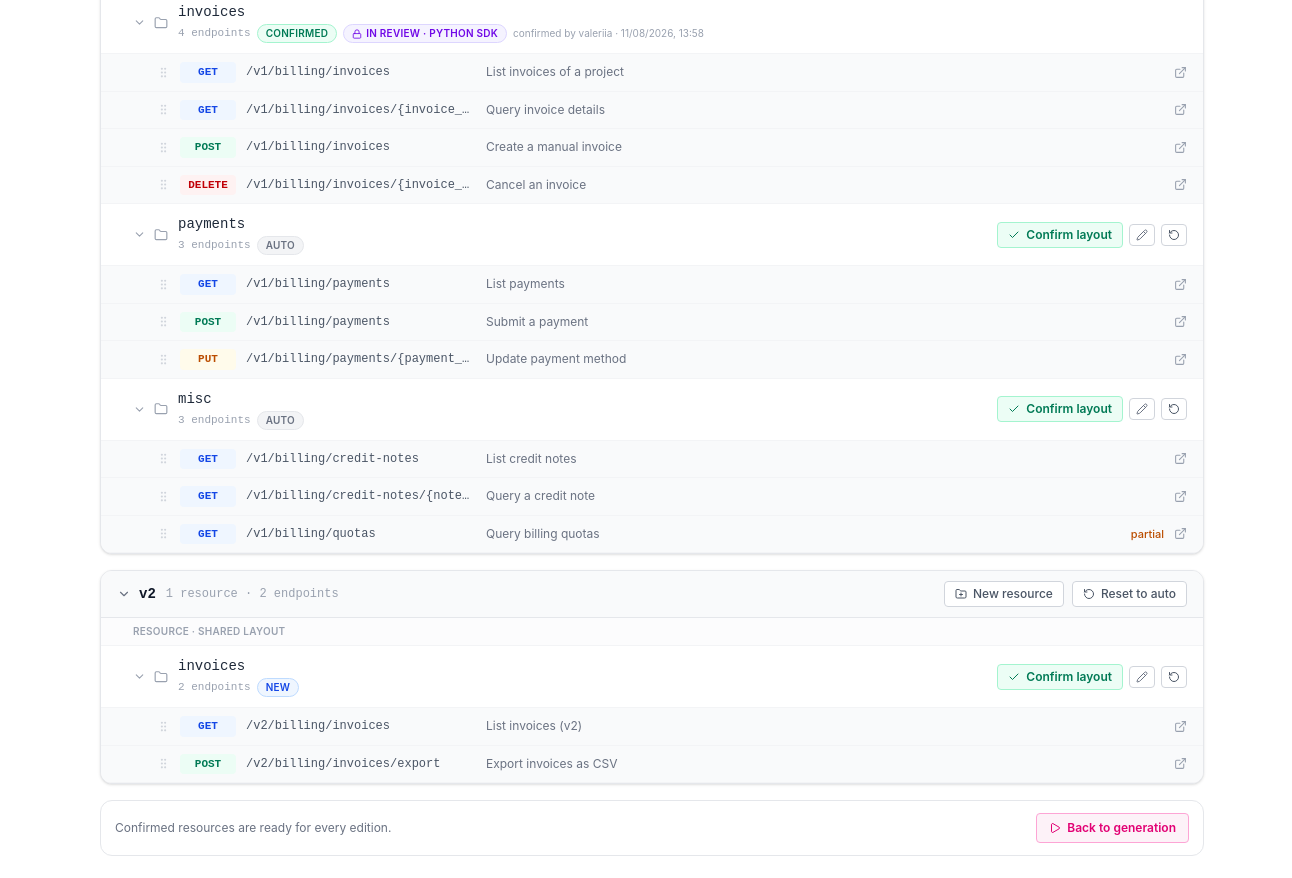
Test: the billing-api layout on the in-memory mock › takes a name another version already has, and drops a rename on Escape or Cancel
The image size is (1292, 878).
(page scrolled)
Click the 3rd button named "Rename resource". click: (1142, 676)
box: [1129,666,1155,688]
(page scrolled)
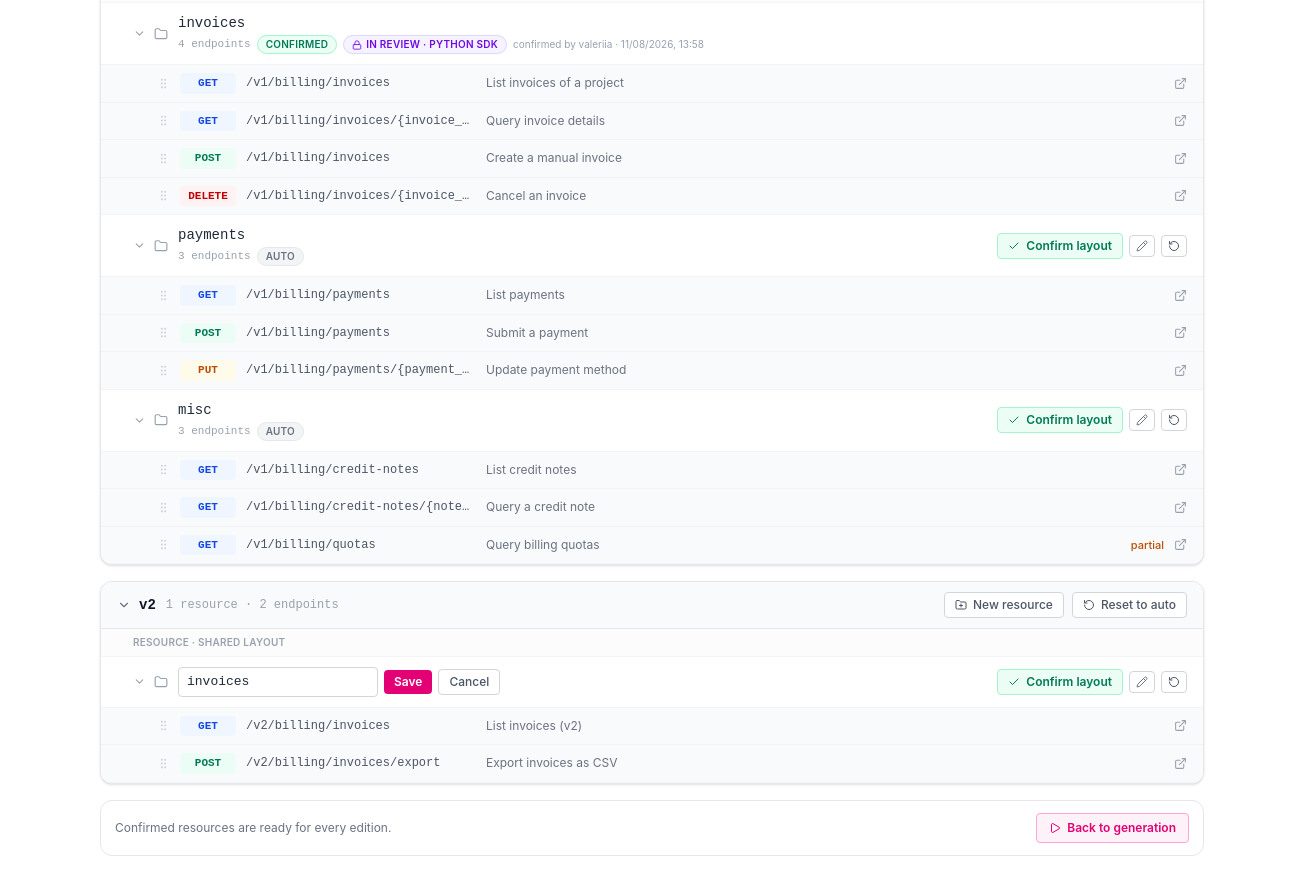
Replace the text in the field with "payments". click: (278, 682)
box: [178,667,378,696]
Press Enter in the field, box [178,667,378,696]
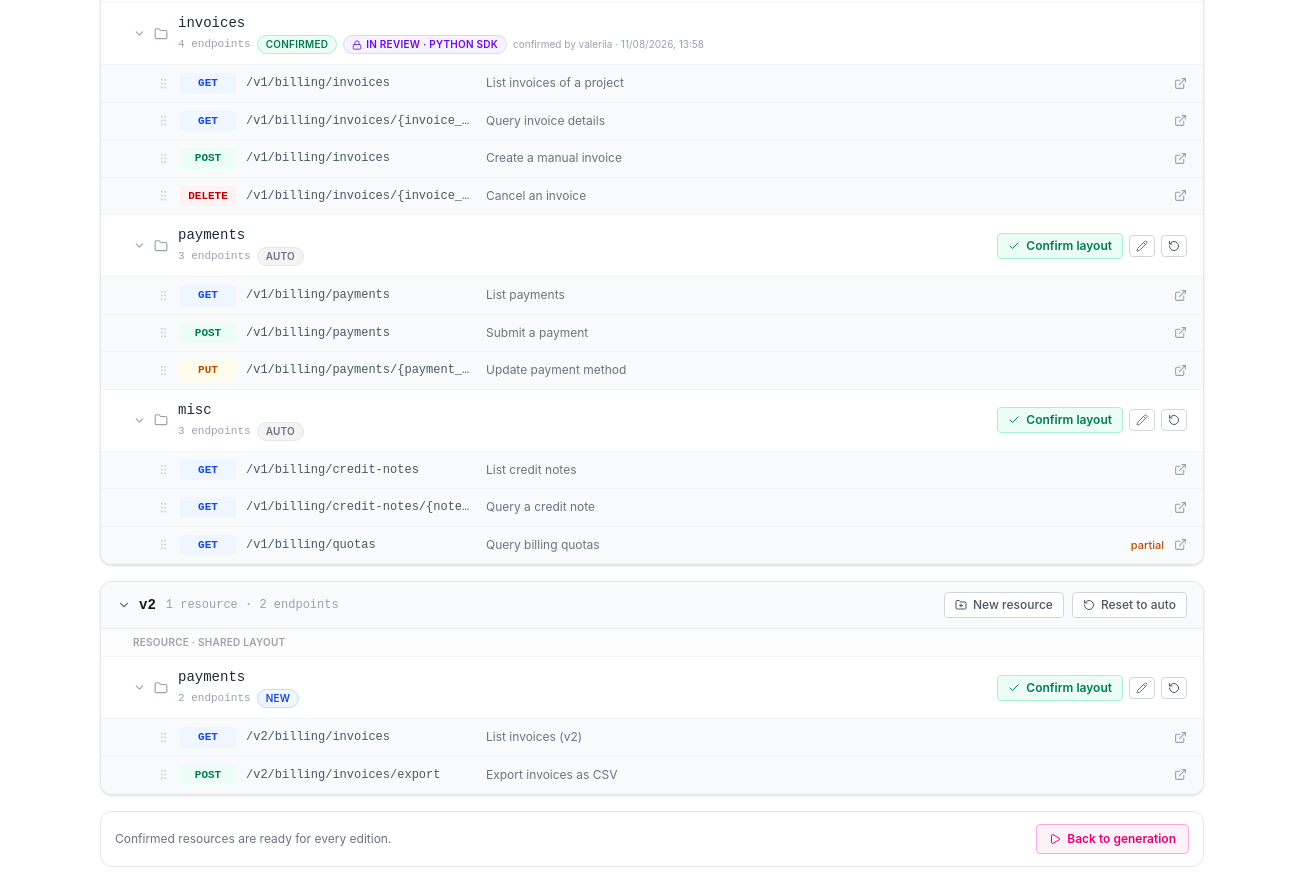
Now the element "payments" is shown, box [101,657,1203,794]
Click the button named "Rename resource" in the row of "misc". click: (1142, 420)
box: [1129,409,1155,431]
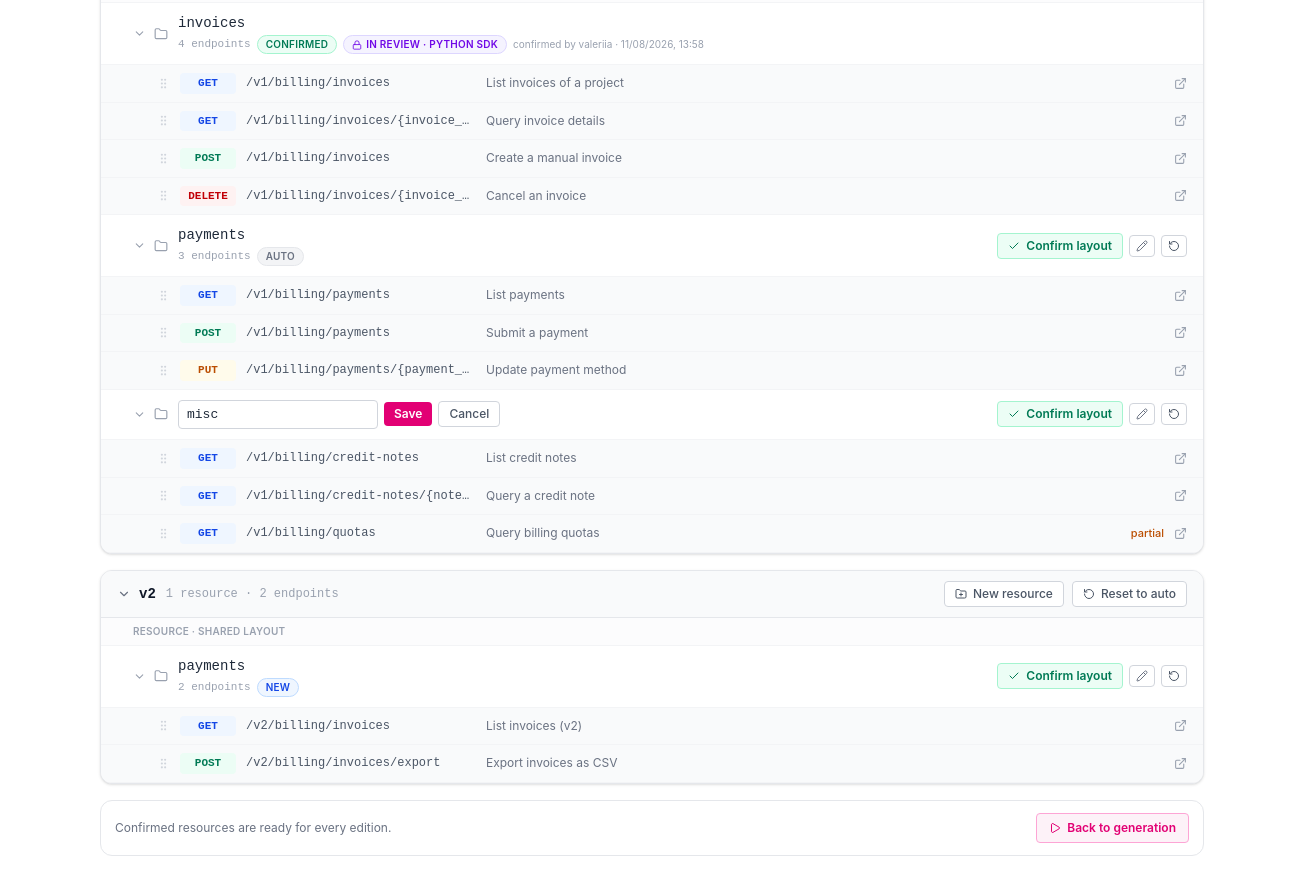
Replace the text in the field with "notes". click: (278, 414)
box: [178,400,378,429]
Press Escape in the field, box [178,400,378,429]
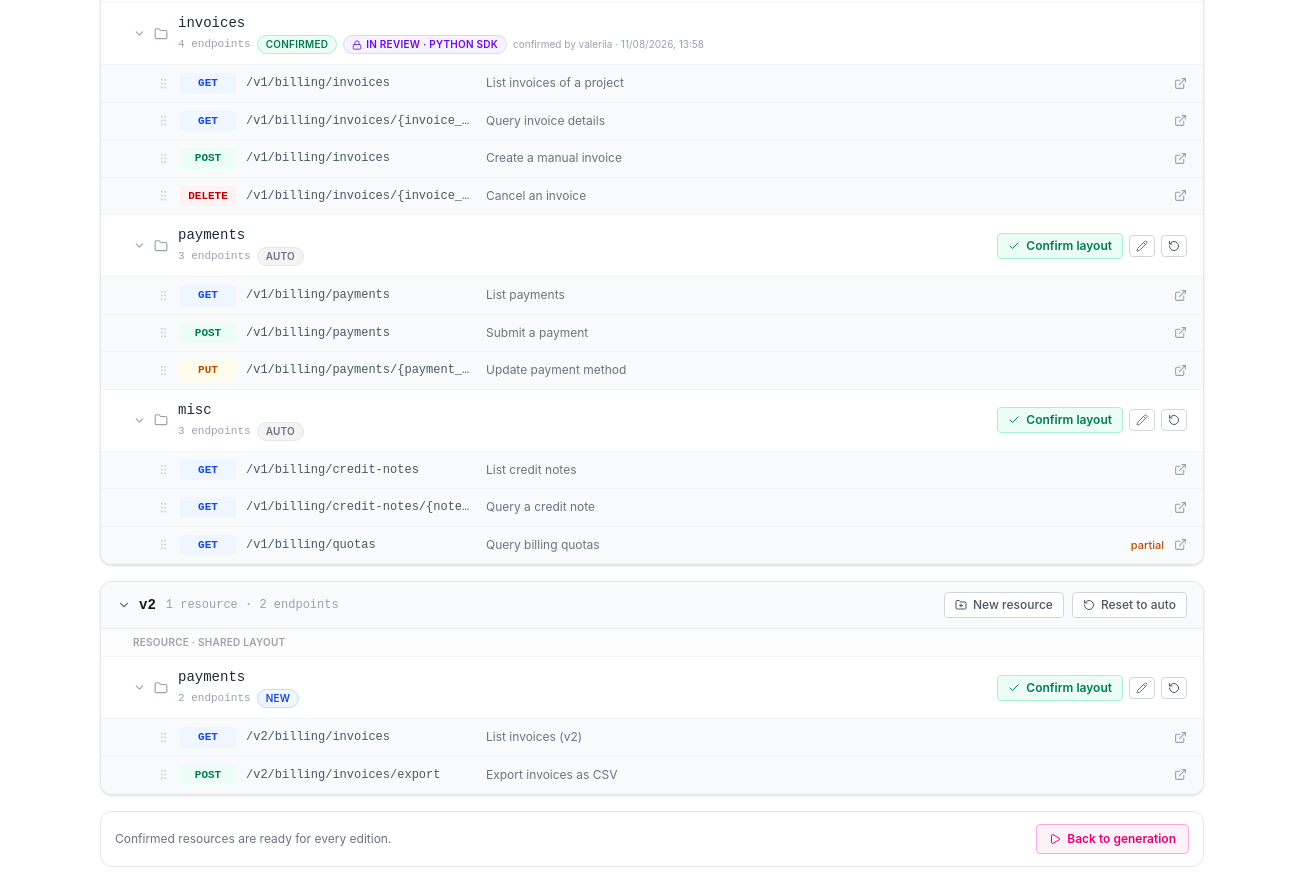
Now the field is gone
Click the button named "Rename resource" in the row of "misc". click: (1142, 420)
box: [1129,409,1155,431]
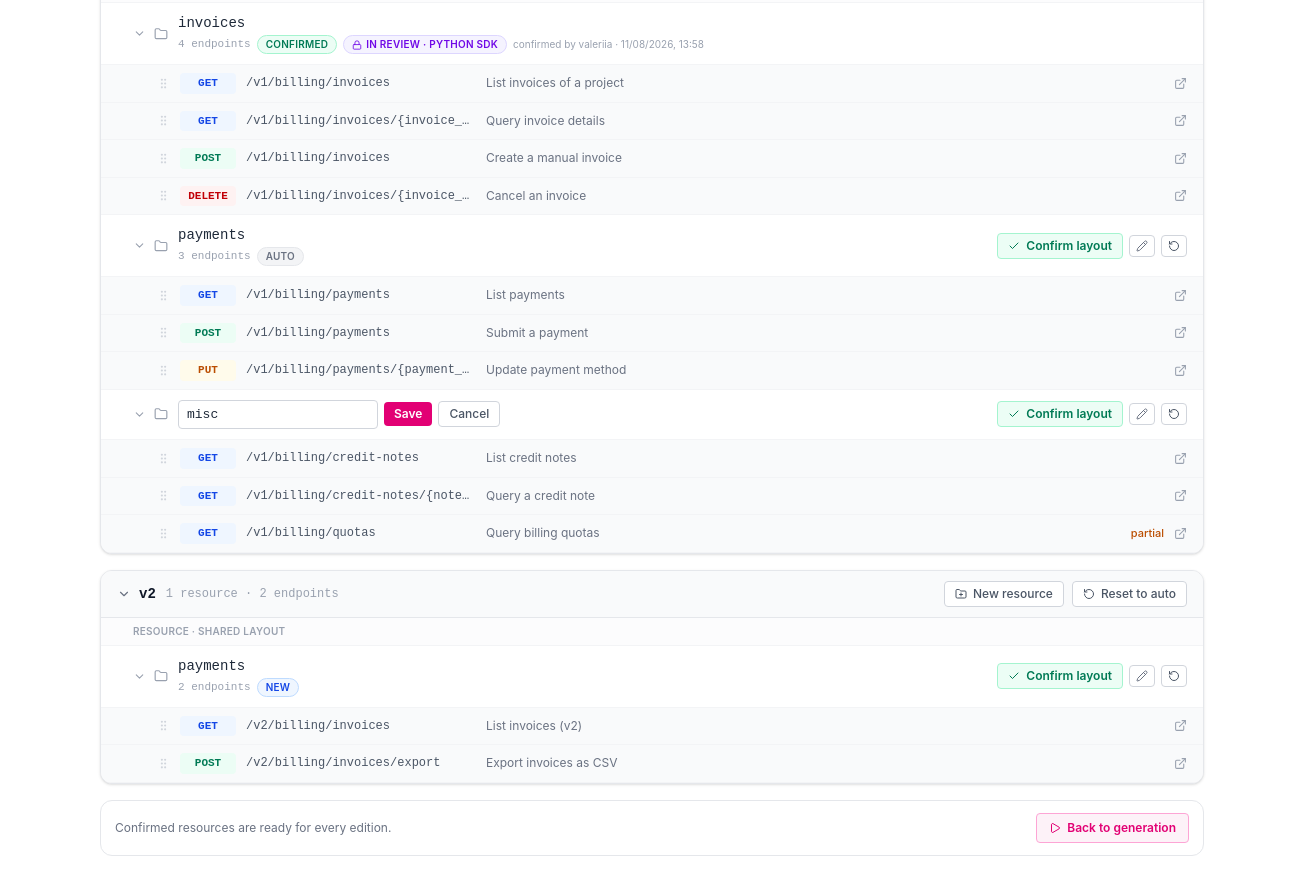
Click the button "Cancel". click: (469, 414)
box: [438,401,500,427]
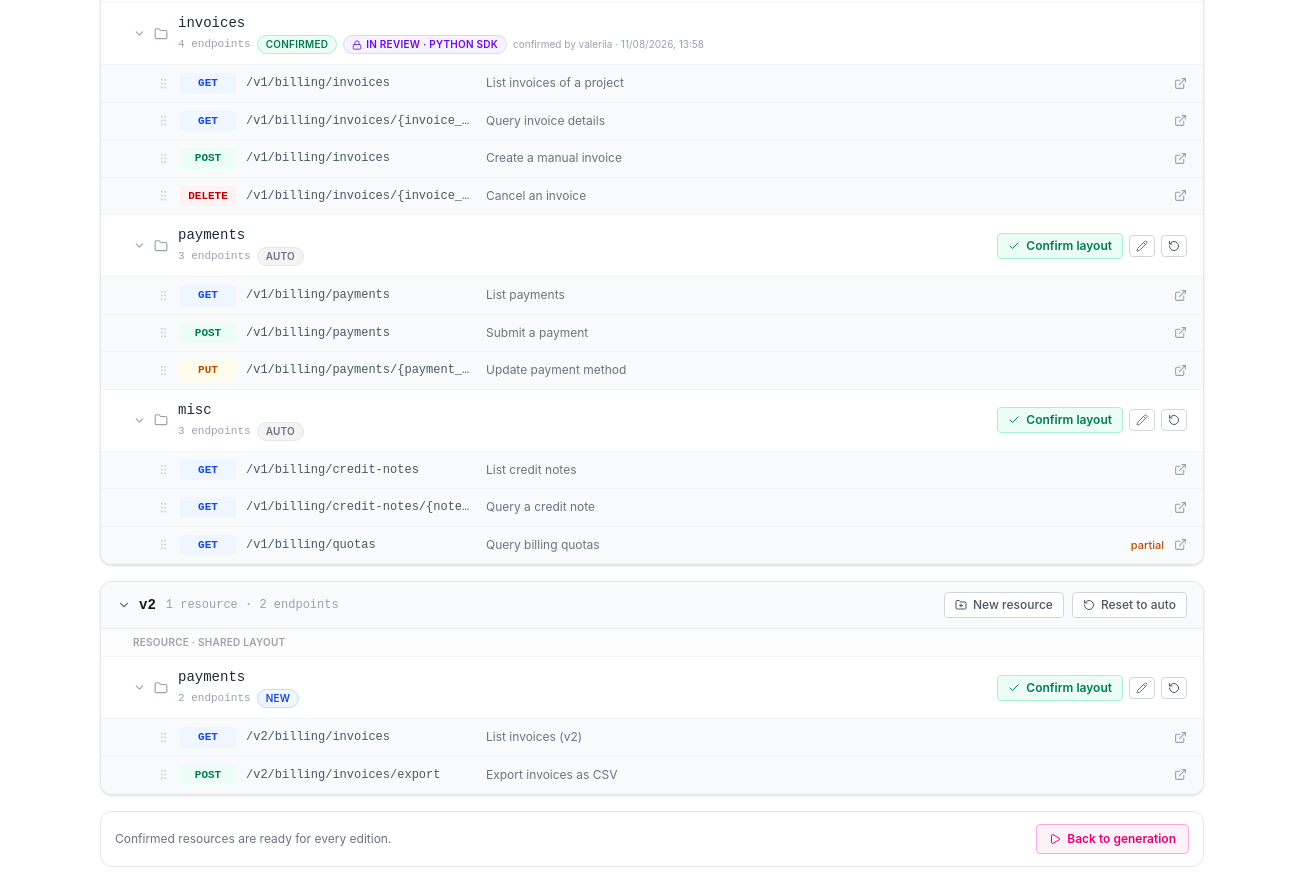
Expected: the element "misc" is shown, [101,390,1203,564]
Now the field is gone
